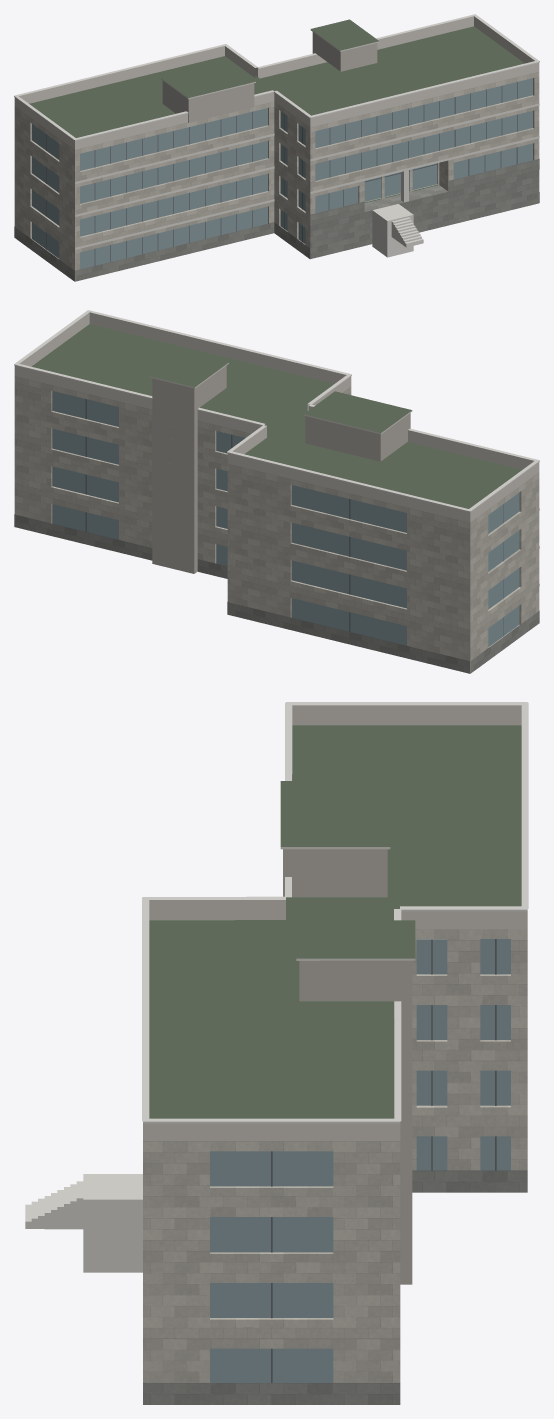
The picture shows the model from 3 angles, top to bottom: view 1: azimuth 30°, elevation 25°; view 2: azimuth 150°, elevation 25°; view 3: azimuth 270°, elevation 25°; orthographic projection. The views are drawn at different scales.
Visible parts, largest first — view 1: b925__wall, b925__glass, b925__roof, b925__base, b925__parapet, b925__trim, b925__wall2, b925__frame, b925__entranceStair; view 2: b925__wall, b925__roof, b925__glass, b925__wall2, b925__parapet, b925__base, b925__trim; view 3: b925__roof, b925__wall, b925__glass, b925__parapet, b925__wall2, b925__trim, b925__base, b925__entranceStair, b925__frame.
Part boxes in pixels (bbox=[...]): b925__wall: bbox=[14, 72, 539, 281]; b925__glass: bbox=[32, 78, 532, 269]; b925__roof: bbox=[29, 19, 538, 259]; b925__base: bbox=[14, 159, 539, 281]; b925__parapet: bbox=[14, 16, 539, 149]; b925__trim: bbox=[14, 14, 539, 249]; b925__wall2: bbox=[162, 32, 377, 122]; b925__frame: bbox=[46, 82, 517, 265]; b925__entranceStair: bbox=[372, 204, 423, 257]; b925__wall: bbox=[14, 376, 539, 673]; b925__roof: bbox=[31, 324, 522, 673]; b925__glass: bbox=[52, 391, 519, 646]; b925__wall2: bbox=[152, 365, 410, 573]; b925__parapet: bbox=[14, 312, 539, 522]; b925__base: bbox=[14, 514, 539, 673]; b925__trim: bbox=[14, 310, 539, 585]; b925__roof: bbox=[149, 725, 521, 1118]; b925__wall: bbox=[143, 929, 527, 1382]; b925__glass: bbox=[210, 939, 510, 1382]; b925__parapet: bbox=[143, 705, 527, 1141]; b925__wall2: bbox=[283, 849, 412, 1284]; b925__trim: bbox=[142, 702, 528, 1123]; b925__base: bbox=[143, 1170, 527, 1404]; b925__entranceStair: bbox=[25, 1174, 142, 1272]; b925__frame: bbox=[271, 939, 496, 1382].
Bounding box in the file's own units: 49.26 × 18.21 × 24.98.
Materials: 11 (2 with a texture image).
